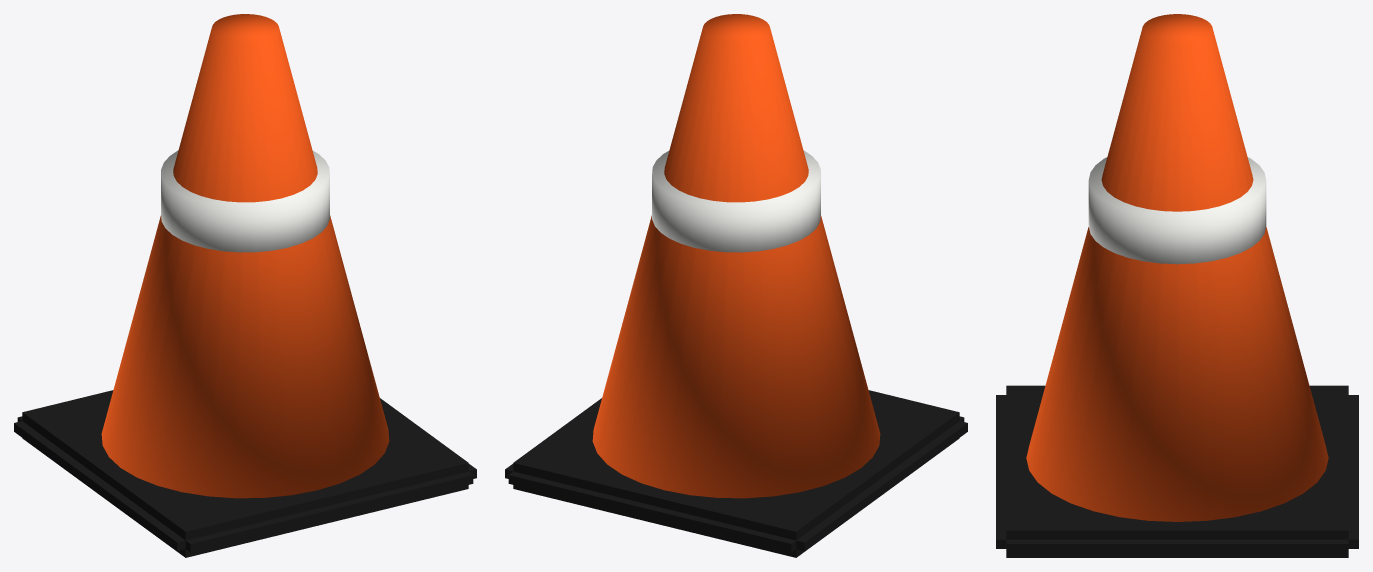
3 renders of one model, left to right at view 1: azimuth 30°, elevation 25°; view 2: azimuth 150°, elevation 25°; view 3: azimuth 270°, elevation 25°, orthographic. The views are drawn at different scales.
Visible parts, largest first — view 1: cone, cone_base, cone_band; view 2: cone, cone_base, cone_band; view 3: cone, cone_base, cone_band.
Boxes of the visible parts, bbox=[...] form: cone: bbox=[101, 14, 389, 498]; cone_base: bbox=[14, 390, 476, 557]; cone_band: bbox=[161, 150, 329, 252]; cone: bbox=[592, 14, 880, 498]; cone_base: bbox=[505, 390, 967, 557]; cone_band: bbox=[652, 150, 820, 252]; cone: bbox=[1026, 14, 1328, 521]; cone_base: bbox=[996, 385, 1358, 557]; cone_band: bbox=[1088, 157, 1266, 264].
Size of the model in its own units: 0.36 by 0.5 by 0.36.
